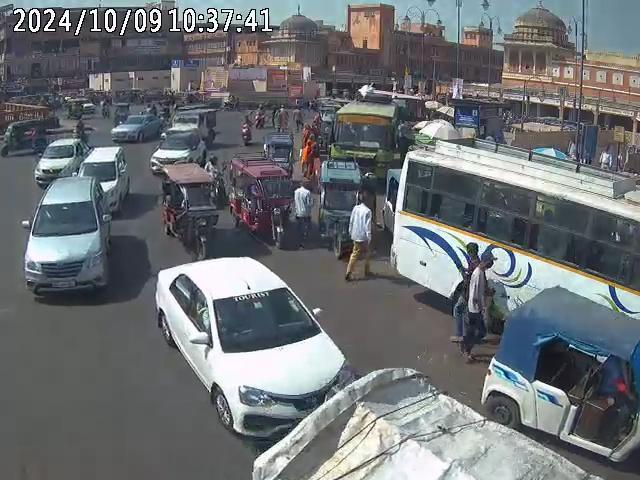auto: (478, 286, 640, 465), (227, 152, 293, 248), (160, 161, 220, 244), (323, 157, 362, 259), (1, 118, 47, 158)
bus: (390, 140, 640, 319), (331, 92, 402, 174)
car: (152, 255, 354, 445), (22, 173, 111, 305), (80, 145, 130, 216), (32, 136, 88, 187), (150, 133, 207, 172), (112, 110, 165, 143)
person: (450, 243, 492, 352), (344, 194, 374, 283), (292, 181, 313, 245), (599, 144, 615, 174)
